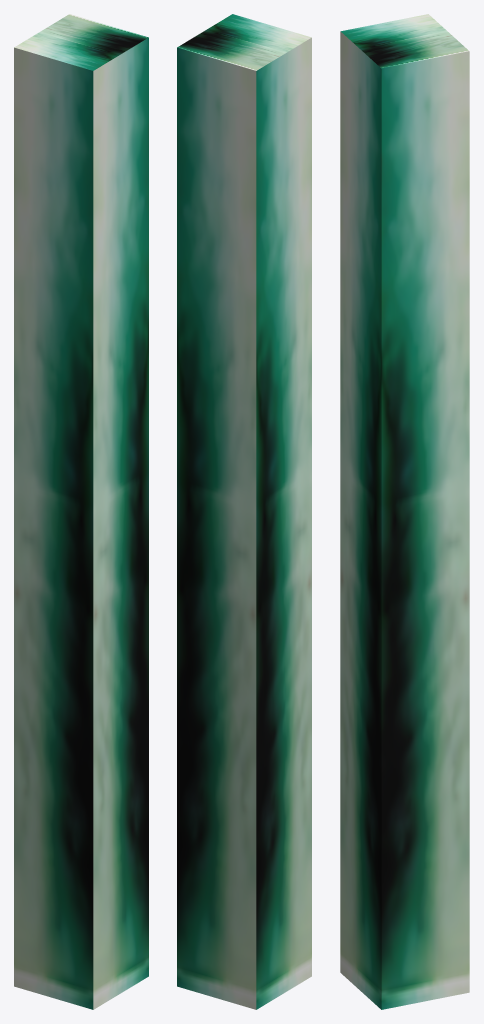
File: Ridge_Block_4.gltf
The picture shows the model from 3 angles, left to right: view 1: azimuth 30°, elevation 25°; view 2: azimuth 210°, elevation 25°; view 3: azimuth 270°, elevation 25°; orthographic projection.
Visible parts, largest first — view 1: Ridge_Block_4; view 2: Ridge_Block_4; view 3: Ridge_Block_4.
Part boxes in pixels (bbox=[...]): Ridge_Block_4: bbox=[14, 14, 148, 1009]; Ridge_Block_4: bbox=[177, 14, 311, 1009]; Ridge_Block_4: bbox=[340, 14, 469, 1009].
Bounding box in the file's own units: 5.5 × 44.28 × 5.5.
Materials: 1 (1 with a texture image).
